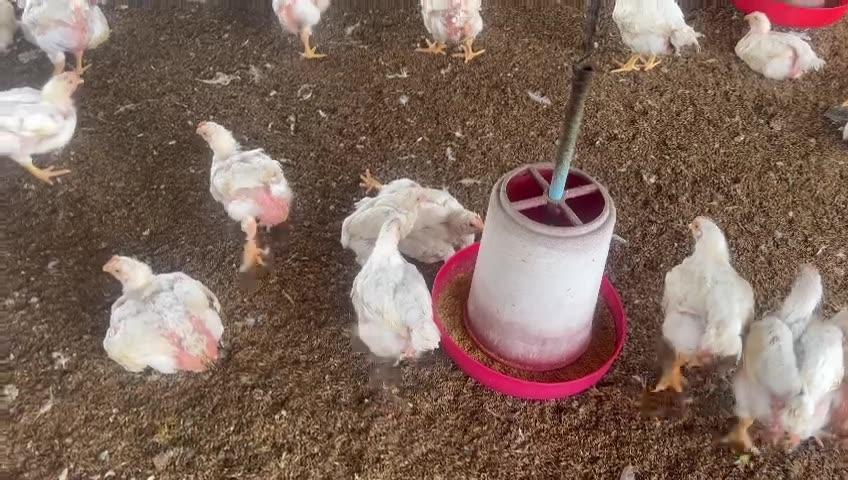AbNormal: (100, 258, 225, 374), (738, 10, 822, 80)
Normal: (660, 217, 745, 393), (198, 120, 290, 269), (351, 215, 436, 371), (0, 68, 86, 187)
